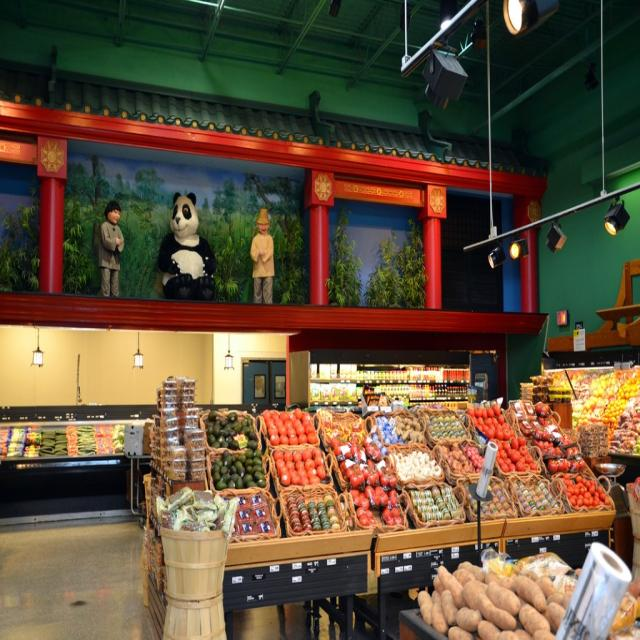panda: (156, 192, 214, 300)
